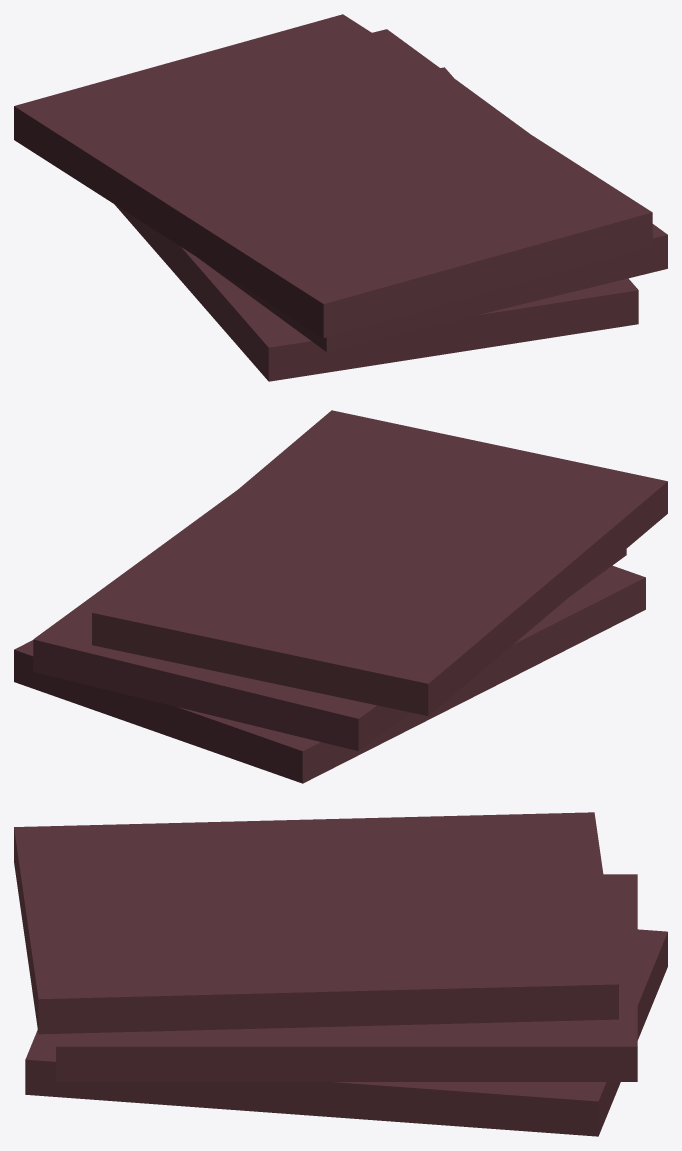
Rendered from magazines-pile.fbx.
3 renders of one model, top to bottom at view 1: azimuth 30°, elevation 25°; view 2: azimuth 150°, elevation 25°; view 3: azimuth 270°, elevation 25°, orthographic. The views are drawn at different scales.
Parts seen in each view (by area): view 1: magazines-pile; view 2: magazines-pile; view 3: magazines-pile.
Part boxes in pixels (x1,y1,x2,y2): magazines-pile: (14, 14, 667, 381); magazines-pile: (14, 410, 667, 783); magazines-pile: (14, 812, 667, 1136).
Size of the model in its own units: 0.2934 by 0.0662 by 0.3711.
